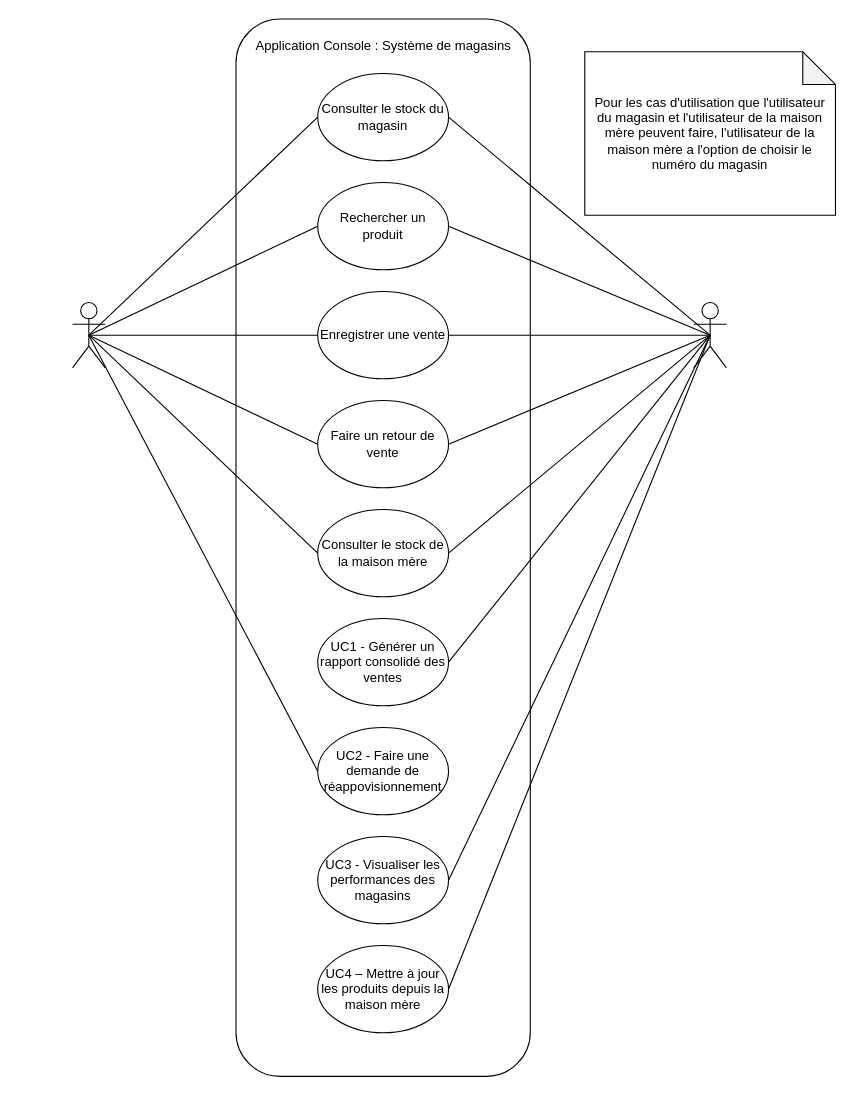
This 855x1095 diagram has some shape labels left out. The shapes that lost their labels are listed below. From the top down, each one's box as (x1, y1, x2, y2) in pixels, then its label:
(71, 301, 105, 368): Utilisateur d'un magasin
(693, 301, 726, 368): Utilisateur de la maison mère
